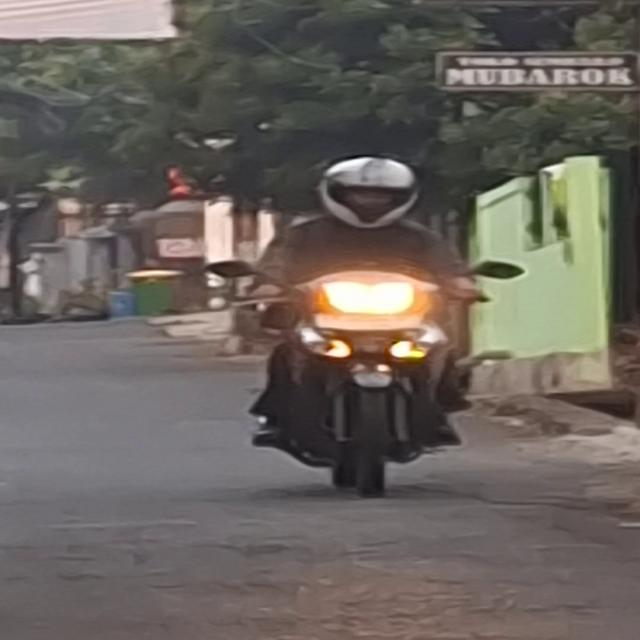WithHelmet: (246, 154, 484, 493)
